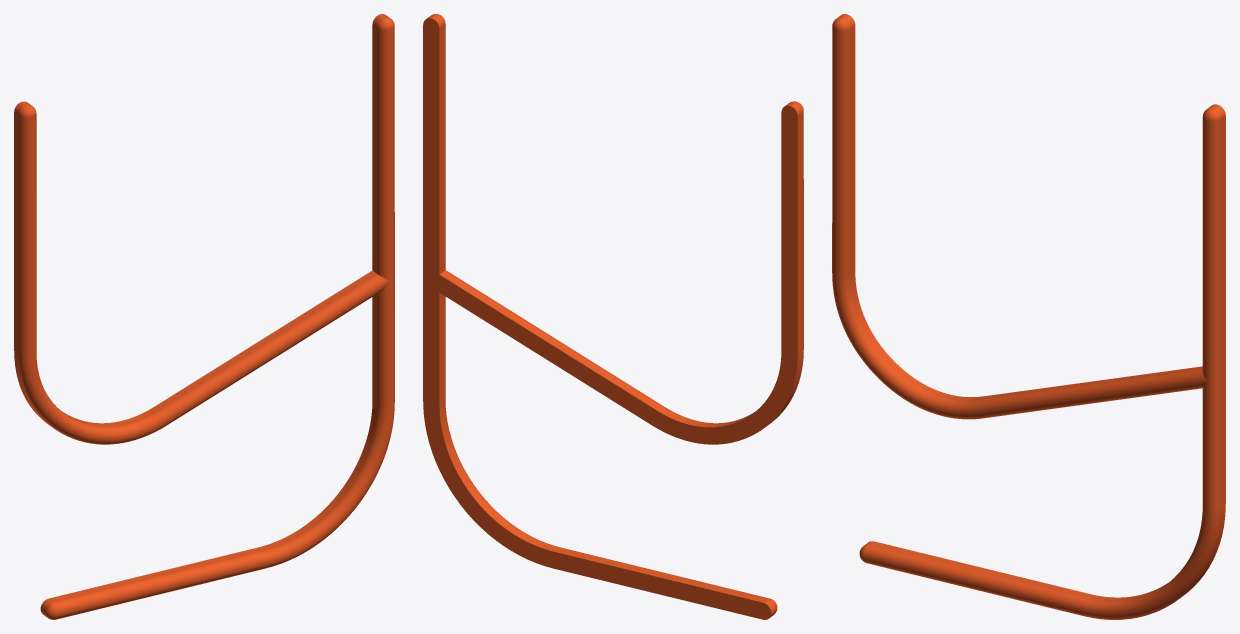
File: PLATE.glb
3 renders of one model, left to right at view 1: azimuth 30°, elevation 25°; view 2: azimuth 150°, elevation 25°; view 3: azimuth 330°, elevation 25°, orthographic. The views are drawn at different scales.
Visible parts, largest first — view 1: Mesh_0.005; view 2: Mesh_0.005; view 3: Mesh_0.005.
Part boxes in pixels (box(x1,y1,x2,y2)): Mesh_0.005: box(14, 14, 394, 619); Mesh_0.005: box(423, 14, 803, 619); Mesh_0.005: box(832, 14, 1225, 619).
Size of the model in its own units: 34.49 by 45.78 by 1.5.
